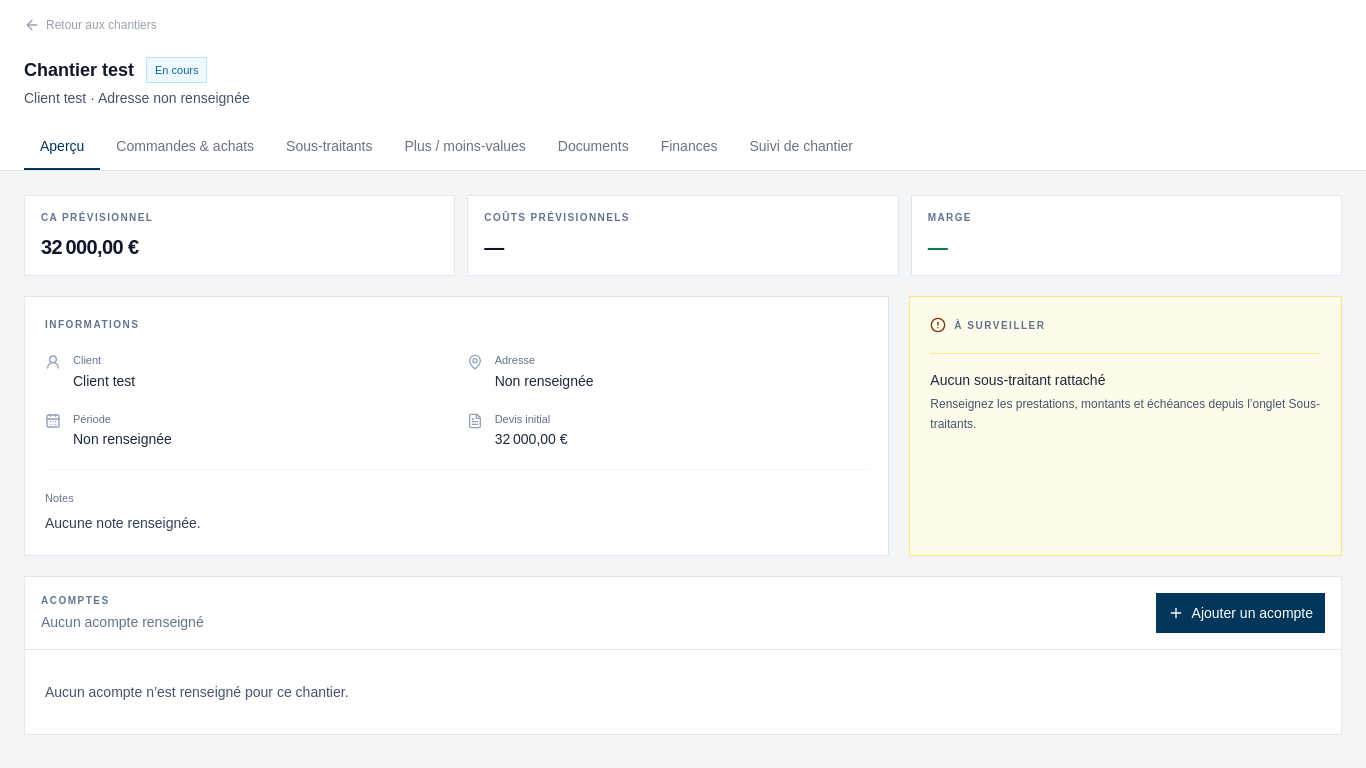
Test: chantier adjustment sheet › requires confirmation and deletes only the selected occurrence
This screenshot has width=1366, height=768.
Click the button "Plus / moins-values" at x=465, y=147, box [388,124,542,170]
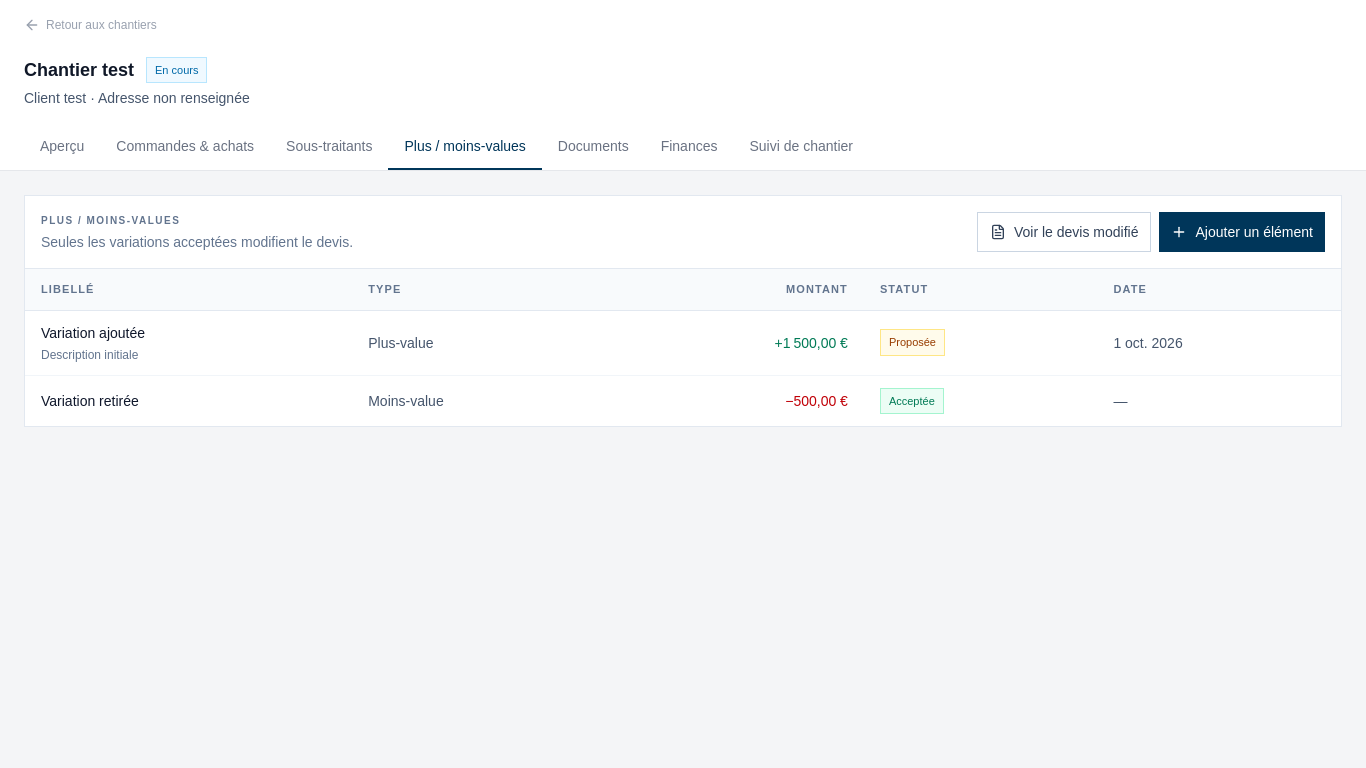
Click the row "Variation ajoutée" at x=683, y=342, box [25,310,1341,375]
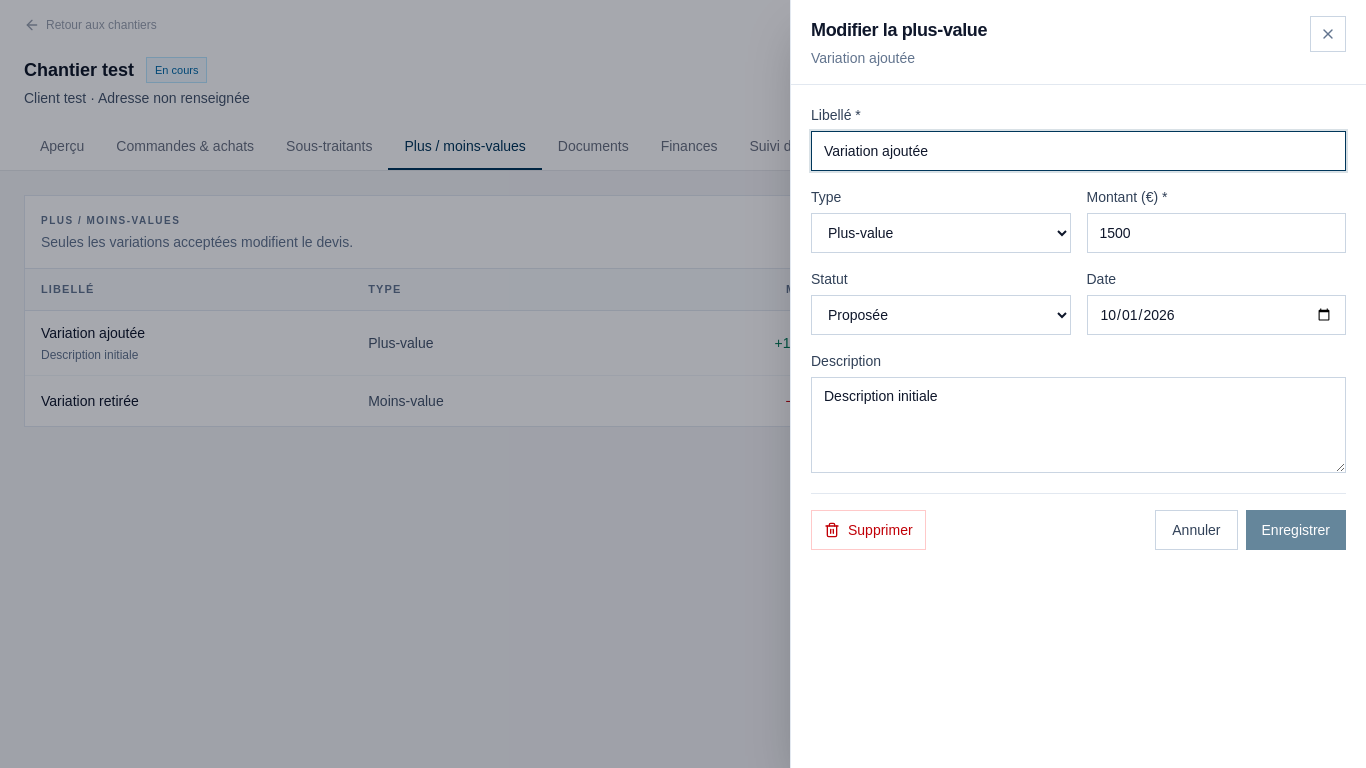
Click the button "Supprimer" at x=868, y=530, box [811,510,926,550]
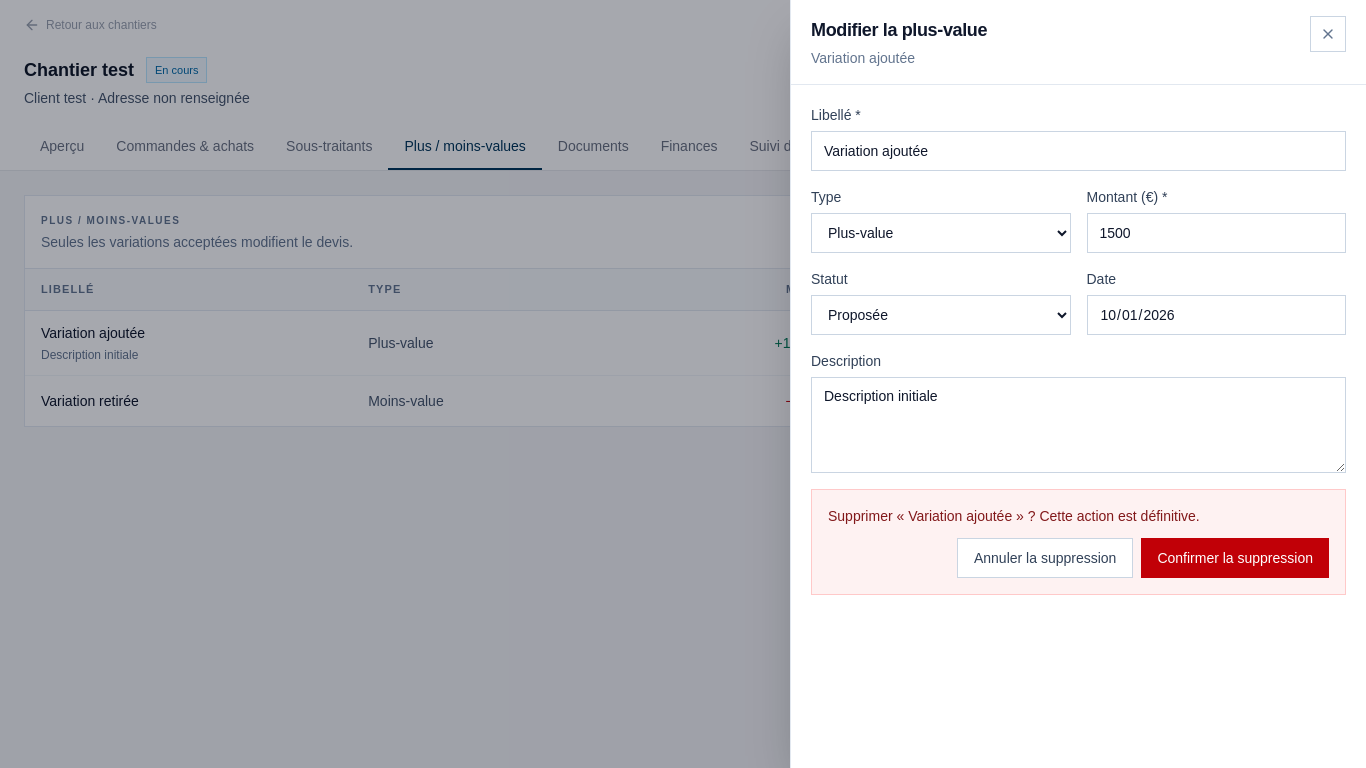
Click the button "Annuler la suppression" at x=1045, y=558, box [957,538,1133,578]
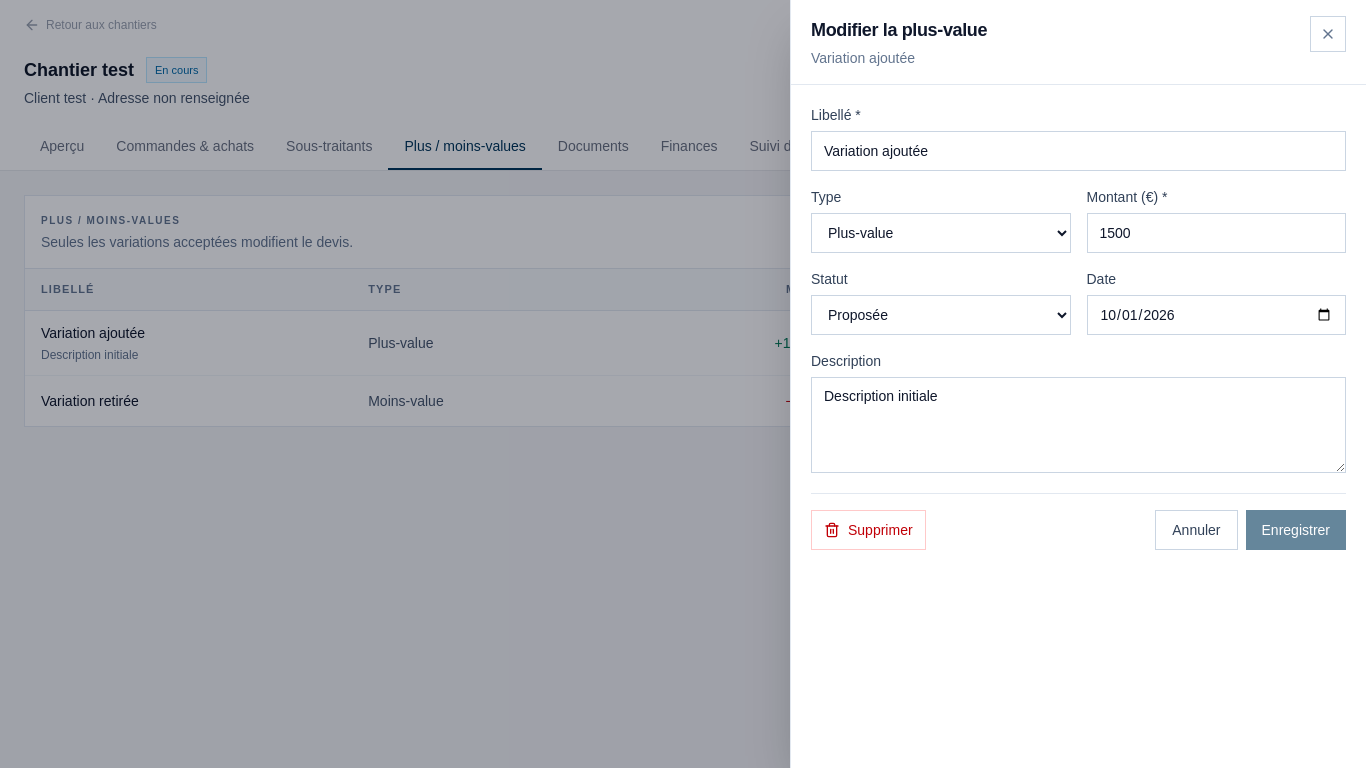
Click the button "Supprimer" at x=868, y=530, box [811,510,926,550]
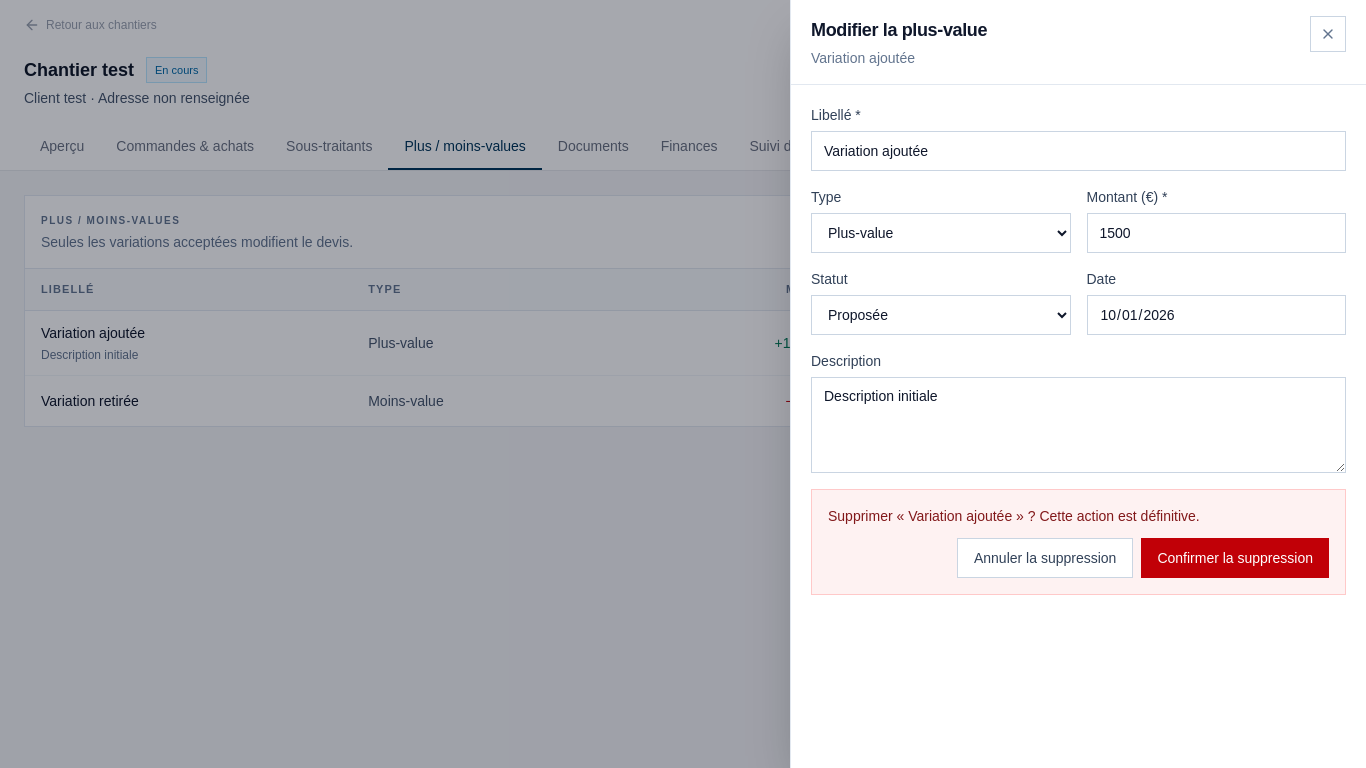
Click the button "Confirmer la suppression" at x=1235, y=558, box [1141,538,1329,578]
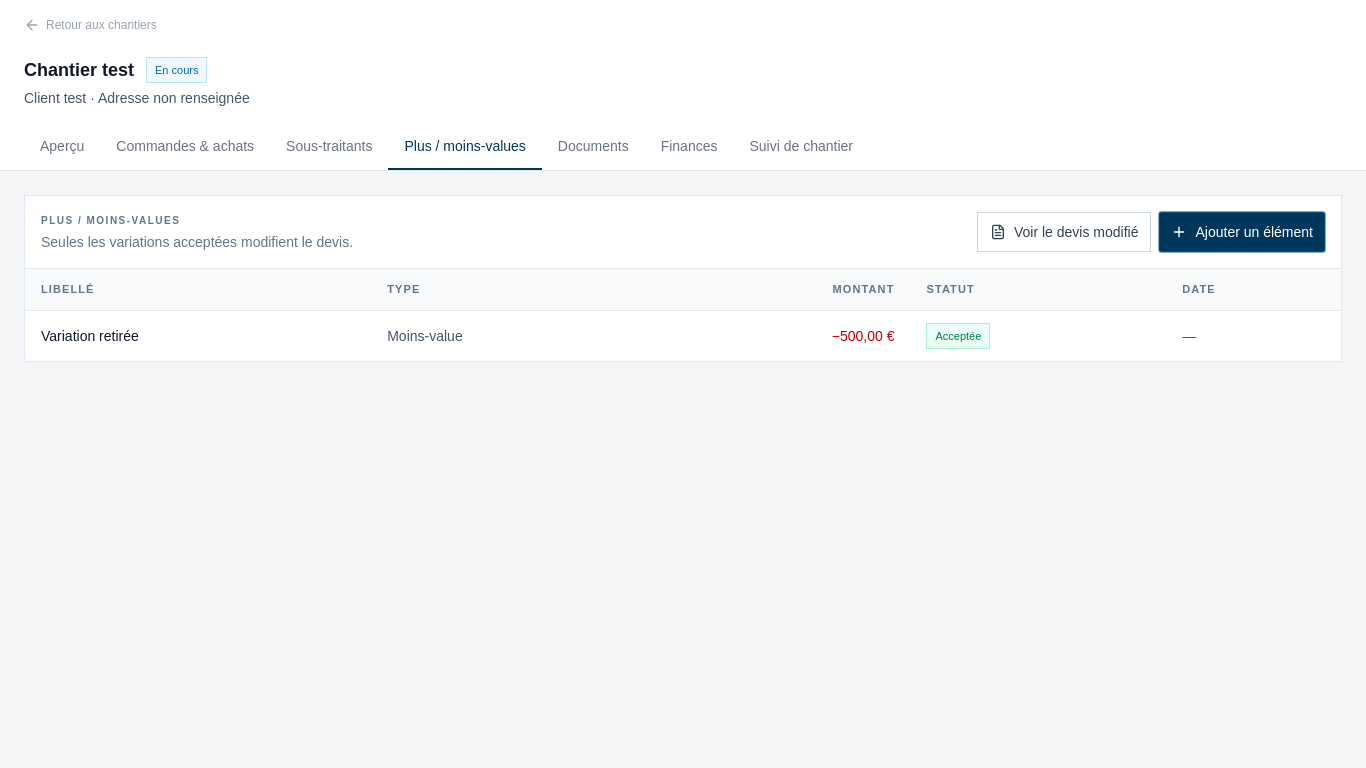
Check: the row "Variation retirée Moins-value −500,00 € Acceptée —" is shown, box [25,310,1341,361]
Check: the dialog is gone
Check: the text "Variation ajoutée" is gone
